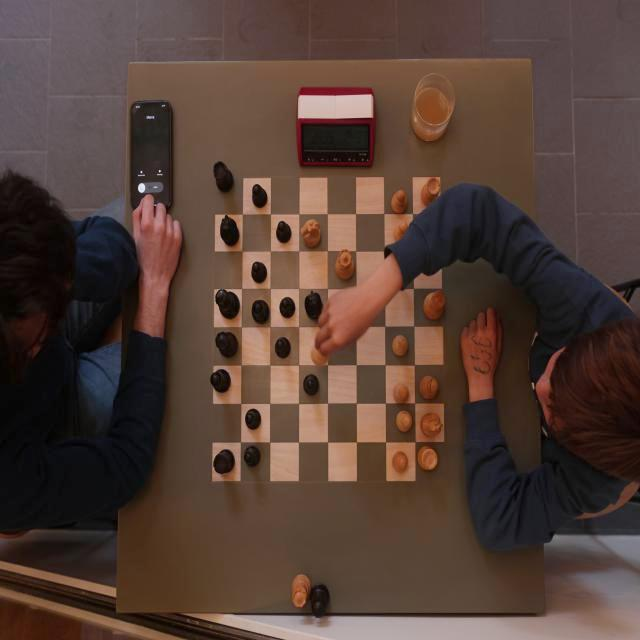chess-table-corners: (202, 472, 218, 493), (438, 174, 443, 180)
